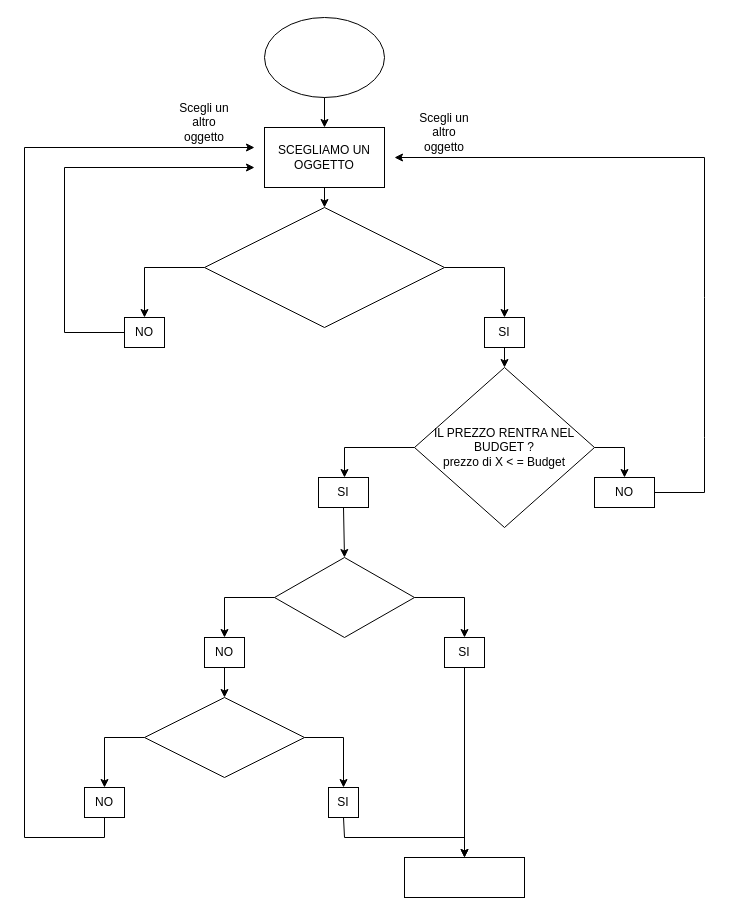
Some shapes in this 730 by 915 pixel diagram are drawn without their labels. Here are the shapes that lost their labels. From the top down, the box of each, then its label:
(264, 16, 384, 98): START
(204, 206, 444, 328): PIACE ALLA FESTEGGIATA ? X = stilografica OR lampada OR libro
(274, 556, 414, 638): è PRIME ?
(144, 696, 304, 778): ARRIVERÀ DOMANI ?
(404, 856, 524, 898): COMPRA !
